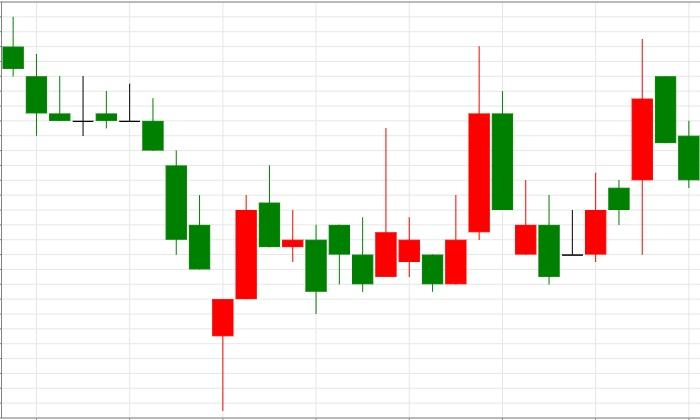hammer_rise: (2, 16, 235, 411)
